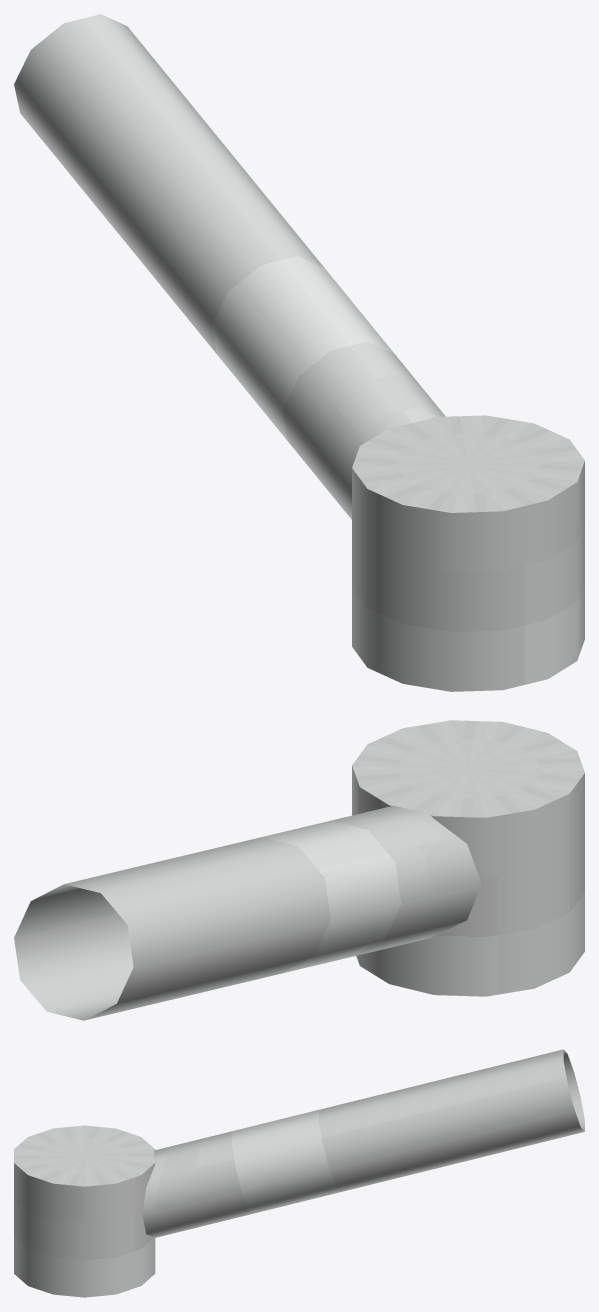
The model's file is trusssignalarm_sloped12_c1_pedestal.obj.
The picture shows the model from 3 angles, top to bottom: view 1: azimuth 30°, elevation 25°; view 2: azimuth 150°, elevation 25°; view 3: azimuth 270°, elevation 25°; orthographic projection. The views are drawn at different scales.
Visible parts, largest first — view 1: trusssignalarm_sloped12_c1_pedestal; view 2: trusssignalarm_sloped12_c1_pedestal; view 3: trusssignalarm_sloped12_c1_pedestal.
Boxes of the visible parts, <box> form: trusssignalarm_sloped12_c1_pedestal: <box>14,14,584,691</box>; trusssignalarm_sloped12_c1_pedestal: <box>14,720,584,1020</box>; trusssignalarm_sloped12_c1_pedestal: <box>14,1049,584,1297</box>.
Bounding box in the file's own units: 0.4438 × 0.7167 × 1.75.
